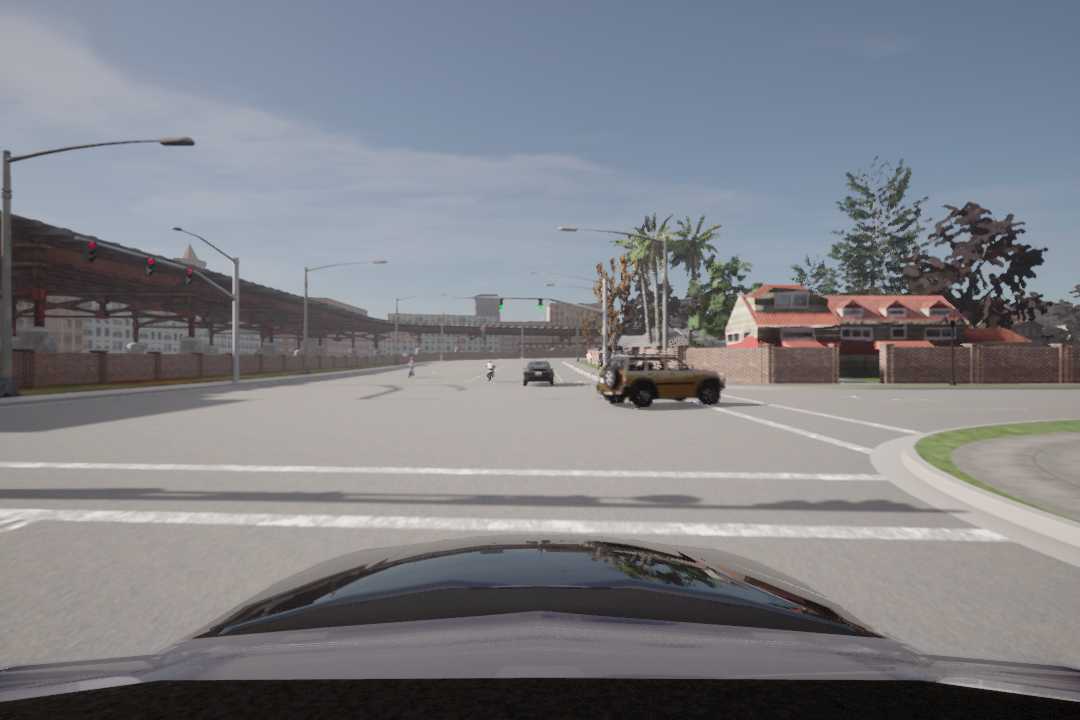TrafficLight: (80, 238, 98, 266), (144, 253, 157, 277), (181, 263, 192, 284), (497, 295, 504, 311), (535, 294, 542, 310)
